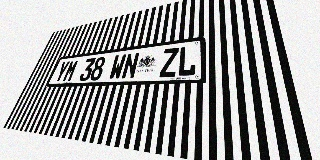3: (78, 58, 96, 81)
8: (89, 56, 107, 81)
L: (177, 45, 197, 77)
M: (62, 60, 79, 82)
N: (121, 52, 140, 79)
W: (108, 54, 127, 80)
Y: (53, 61, 70, 82)
Z: (159, 47, 179, 77)
